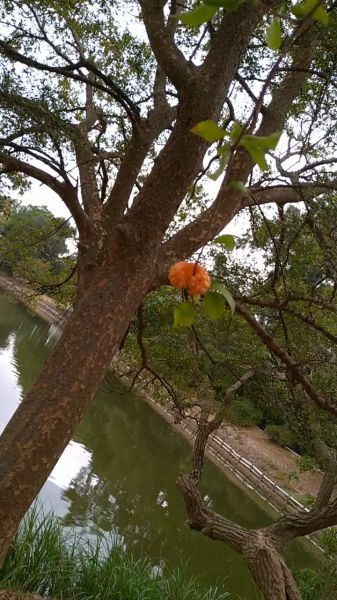eggs: (165, 255, 215, 299)
